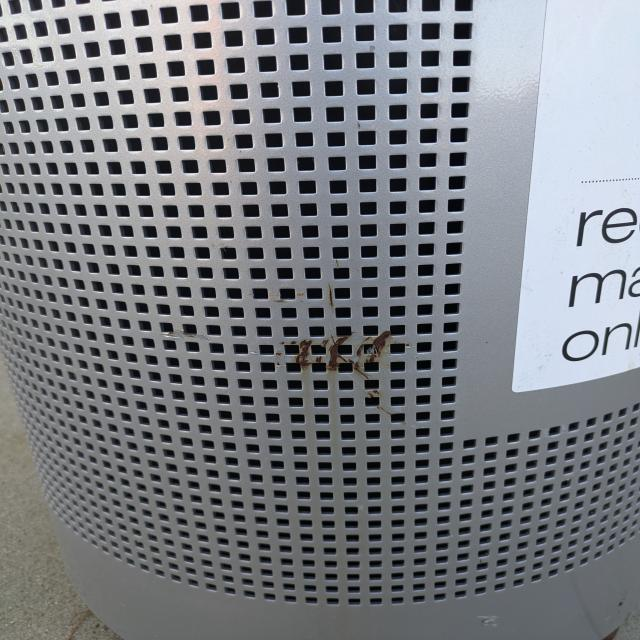Filiform Corrosion: (321, 331, 392, 381), (296, 340, 323, 371)
